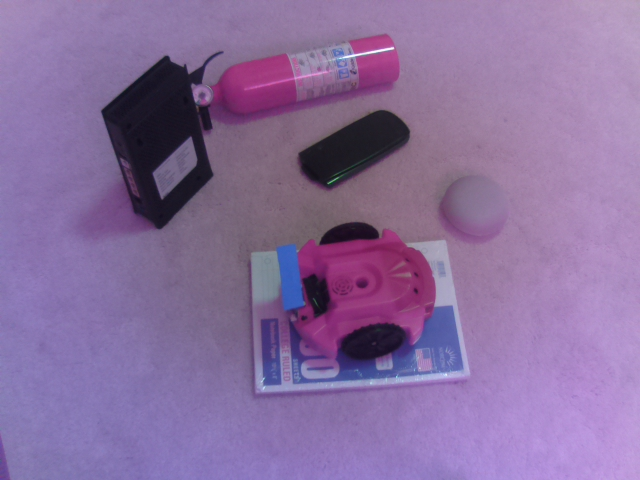board: (269, 244, 317, 329)
chassis: (272, 218, 441, 361)
